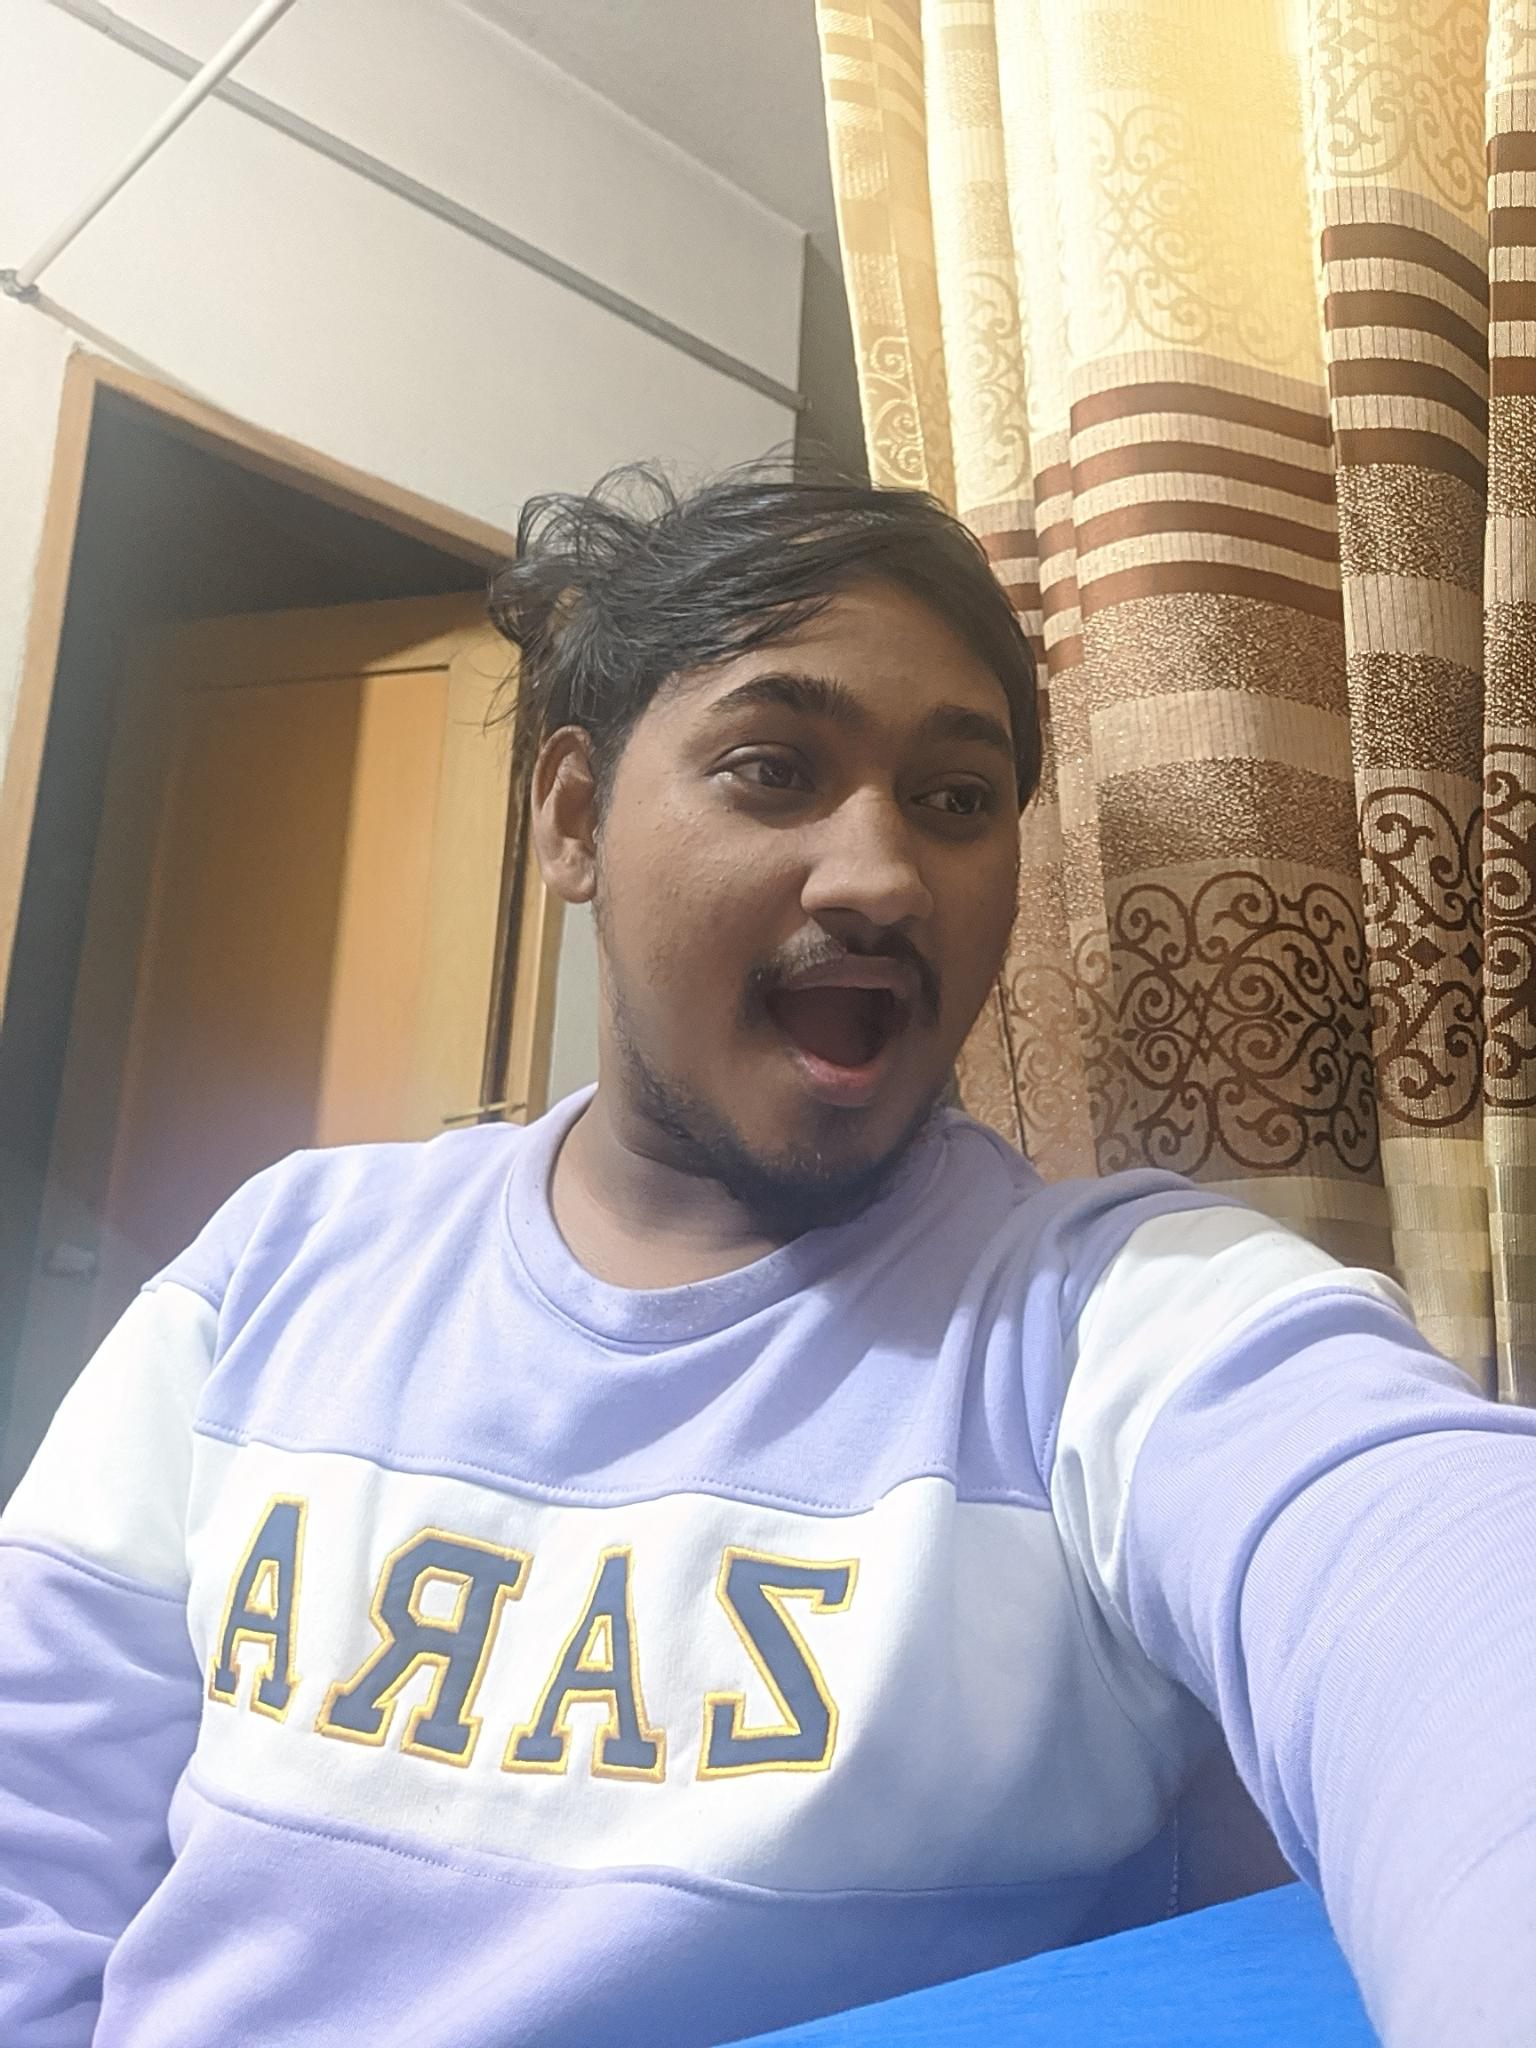Surprise: (637, 624, 1046, 1195)
